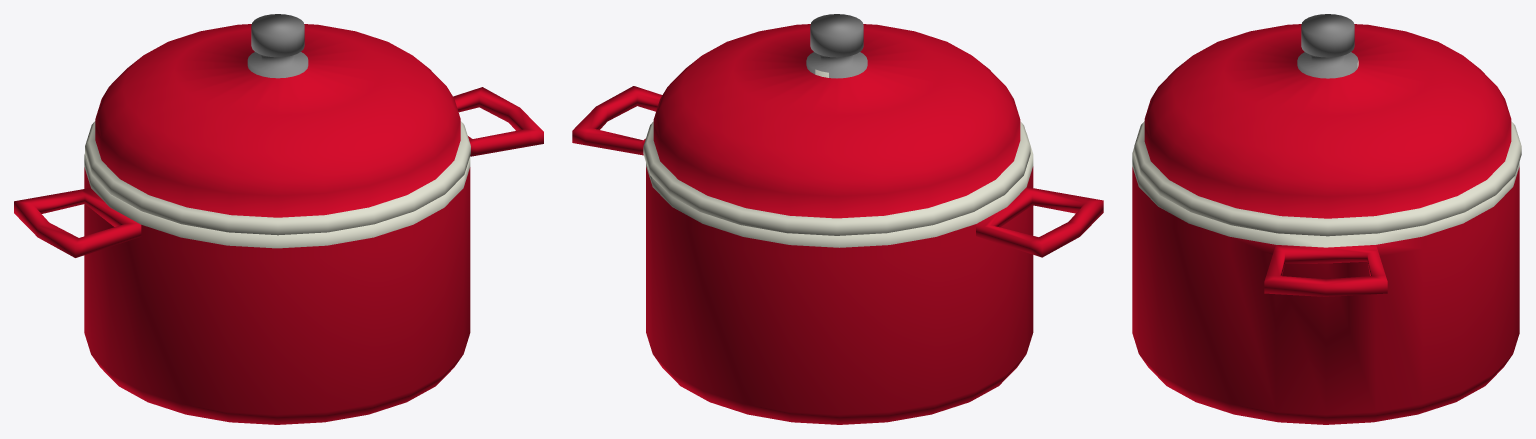
Rendered from nabe_B.fbx.
The picture shows the model from 3 angles, left to right: view 1: azimuth 30°, elevation 25°; view 2: azimuth 150°, elevation 25°; view 3: azimuth 270°, elevation 25°; orthographic projection.
Parts seen in each view (by area): view 1: nabeB, nabeB_lid; view 2: nabeB, nabeB_lid; view 3: nabeB, nabeB_lid.
Boxes of the visible parts, <box> form: nabeB: <box>14,87,543,424</box>; nabeB_lid: <box>85,14,470,235</box>; nabeB: <box>572,86,1103,424</box>; nabeB_lid: <box>643,14,1030,235</box>; nabeB: <box>1132,147,1519,424</box>; nabeB_lid: <box>1134,14,1521,236</box>.
Bounding box in the file's own units: 39.62 × 25.21 × 27.58.
